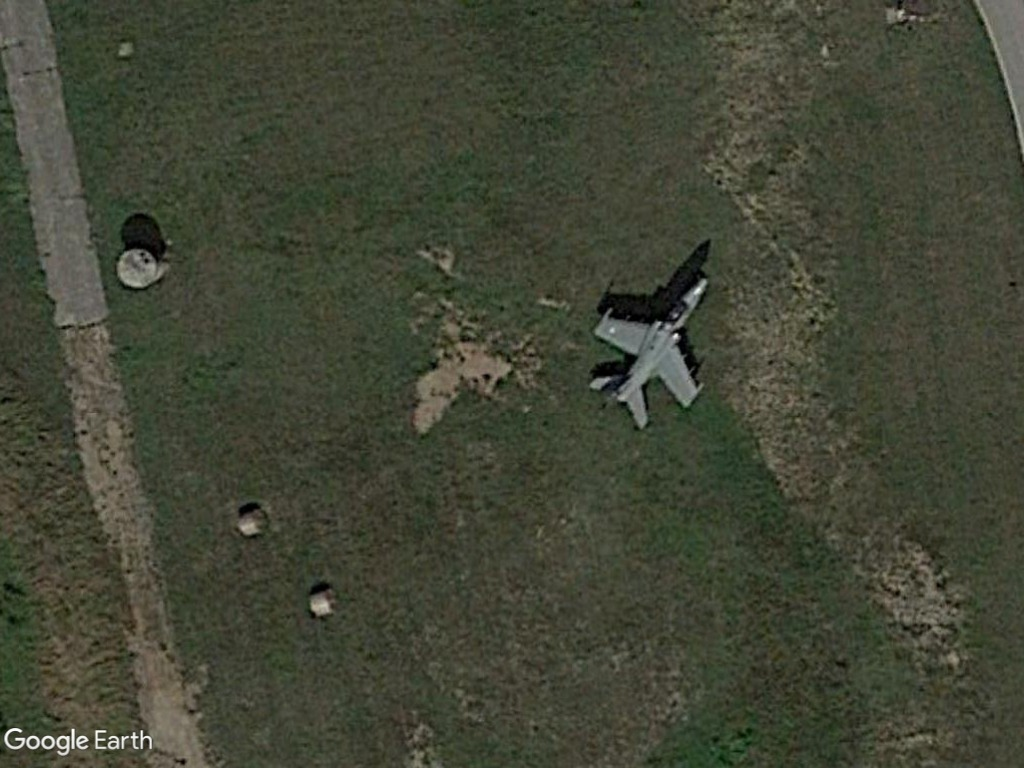fighter: (590, 262, 713, 435)
